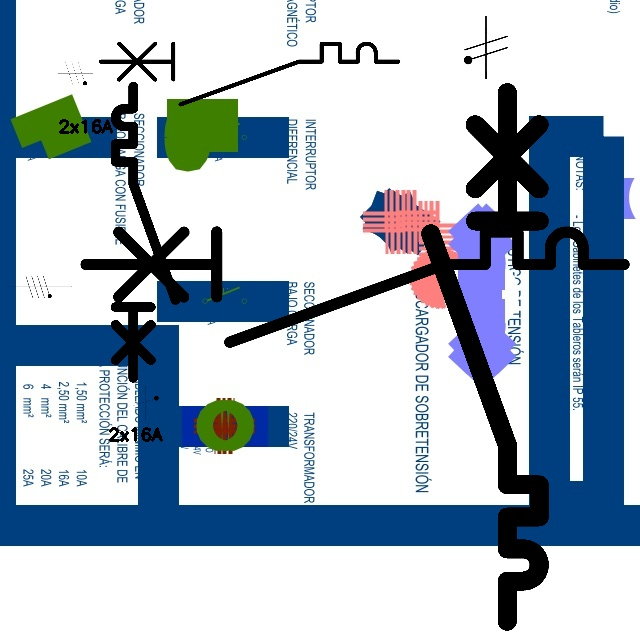interruptor_termomagnetico: (72, 218, 638, 356), (417, 78, 553, 634), (93, 36, 406, 112), (108, 79, 183, 385)
